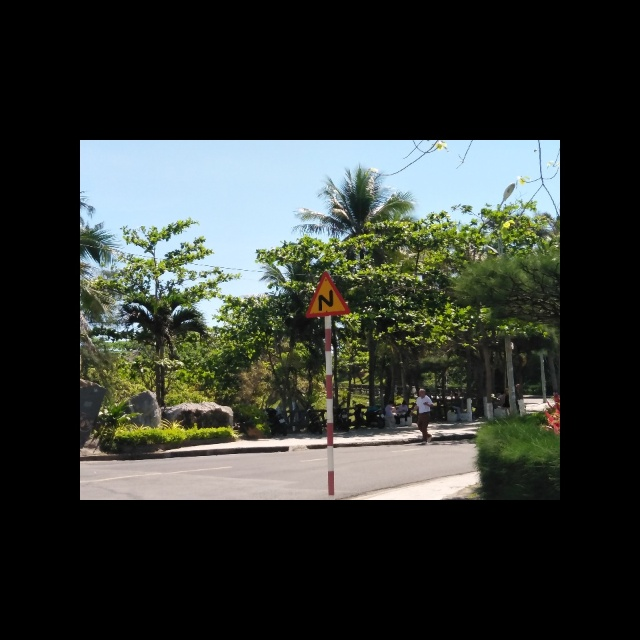Ngoặt nguy hiểm liên tiếp bên phải: (305, 272, 352, 318)
